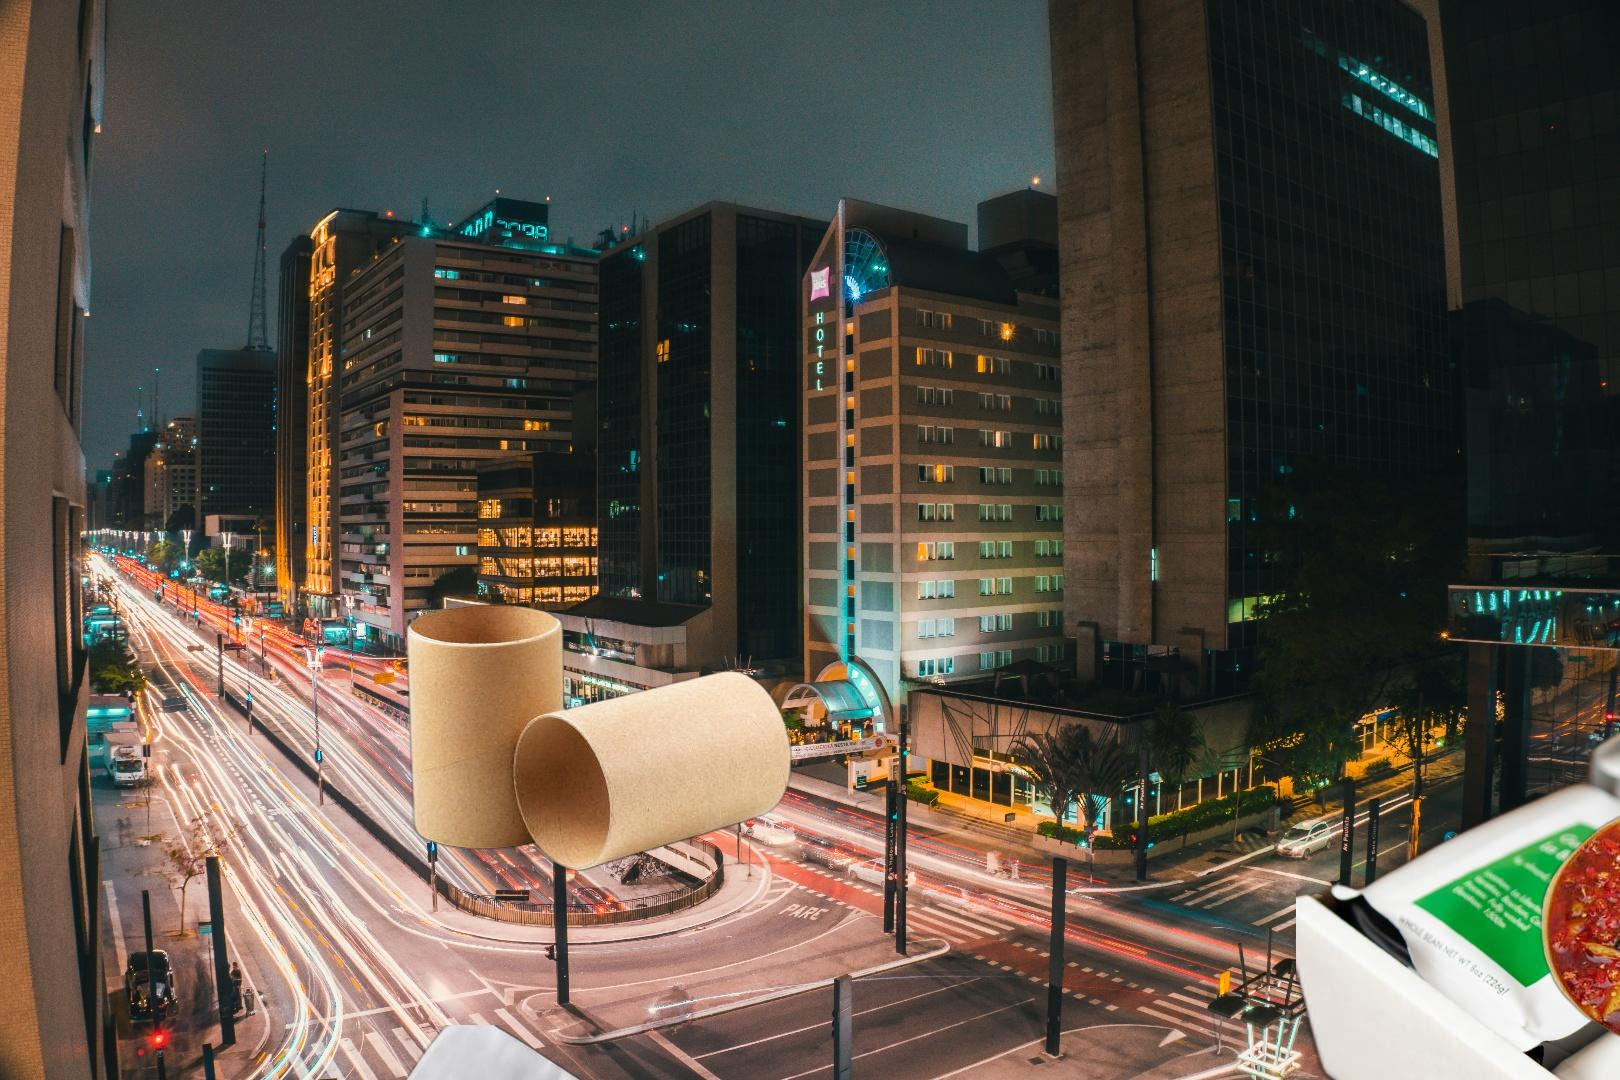biological: (1539, 797, 1620, 1046)
paper: (363, 1025, 804, 1080)
trashbox-cardboard: (1296, 640, 1620, 1080), (401, 601, 797, 875)
